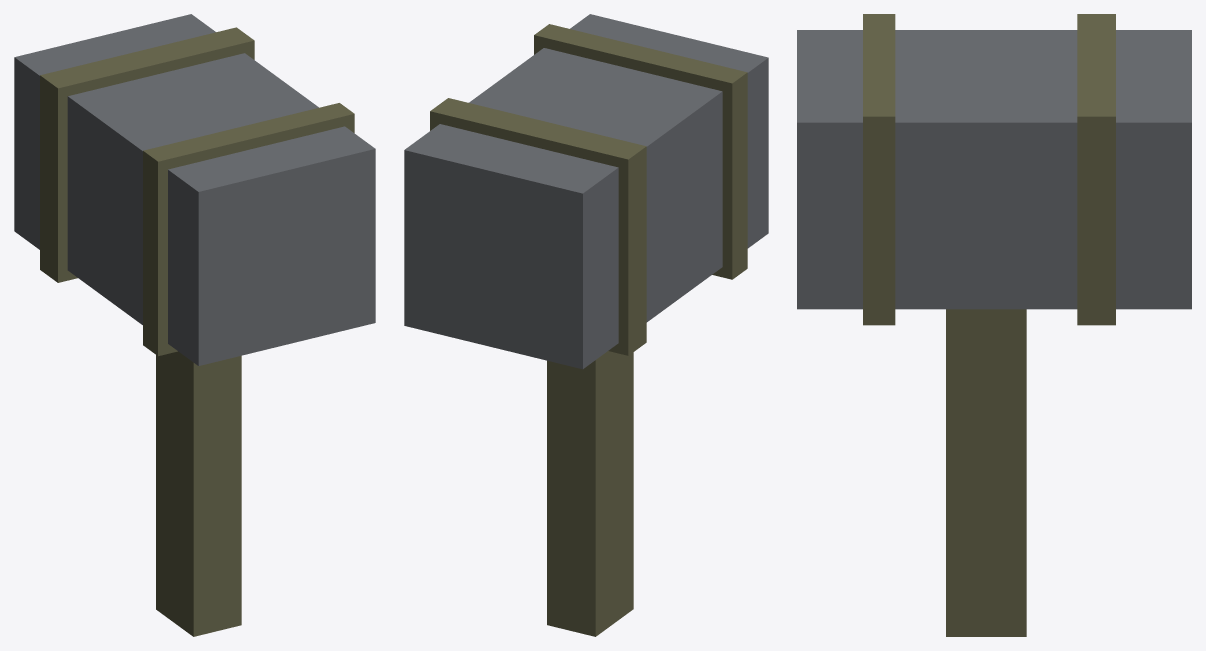
Rendered from hammer.fbx.
3 views of the same model, side by side, from view 1: azimuth 30°, elevation 25°; view 2: azimuth 150°, elevation 25°; view 3: azimuth 270°, elevation 25° (orthographic). The views are drawn at different scales.
Parts seen in each view (by area): view 1: pCube4; view 2: pCube4; view 3: pCube4.
Boxes of the visible parts, x1,y1,x2,y2 form: pCube4: (14, 14, 375, 636); pCube4: (404, 14, 768, 636); pCube4: (797, 14, 1191, 636).
Size of the model in its own units: 1.04 by 2.65 by 1.69.
